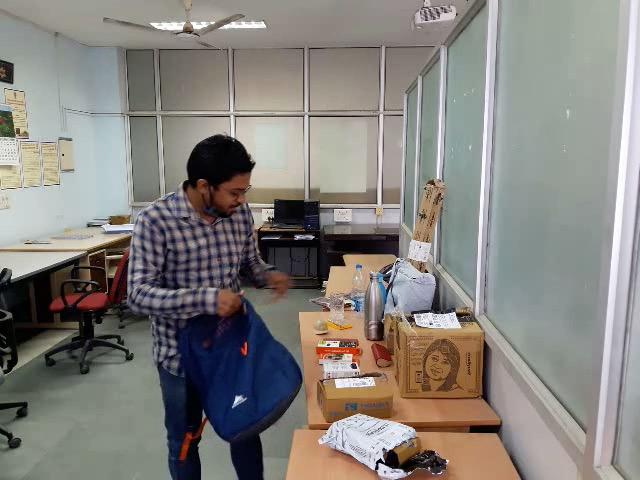shoplifting: (77, 240, 478, 480)
